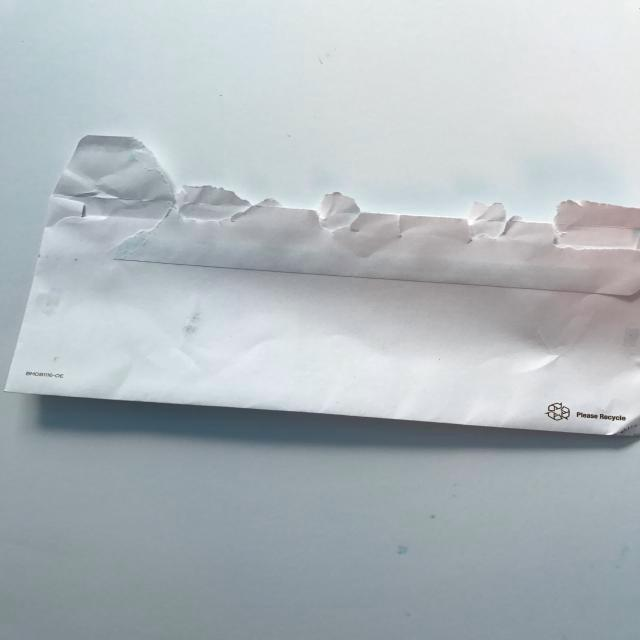paper: (9, 126, 640, 455)
